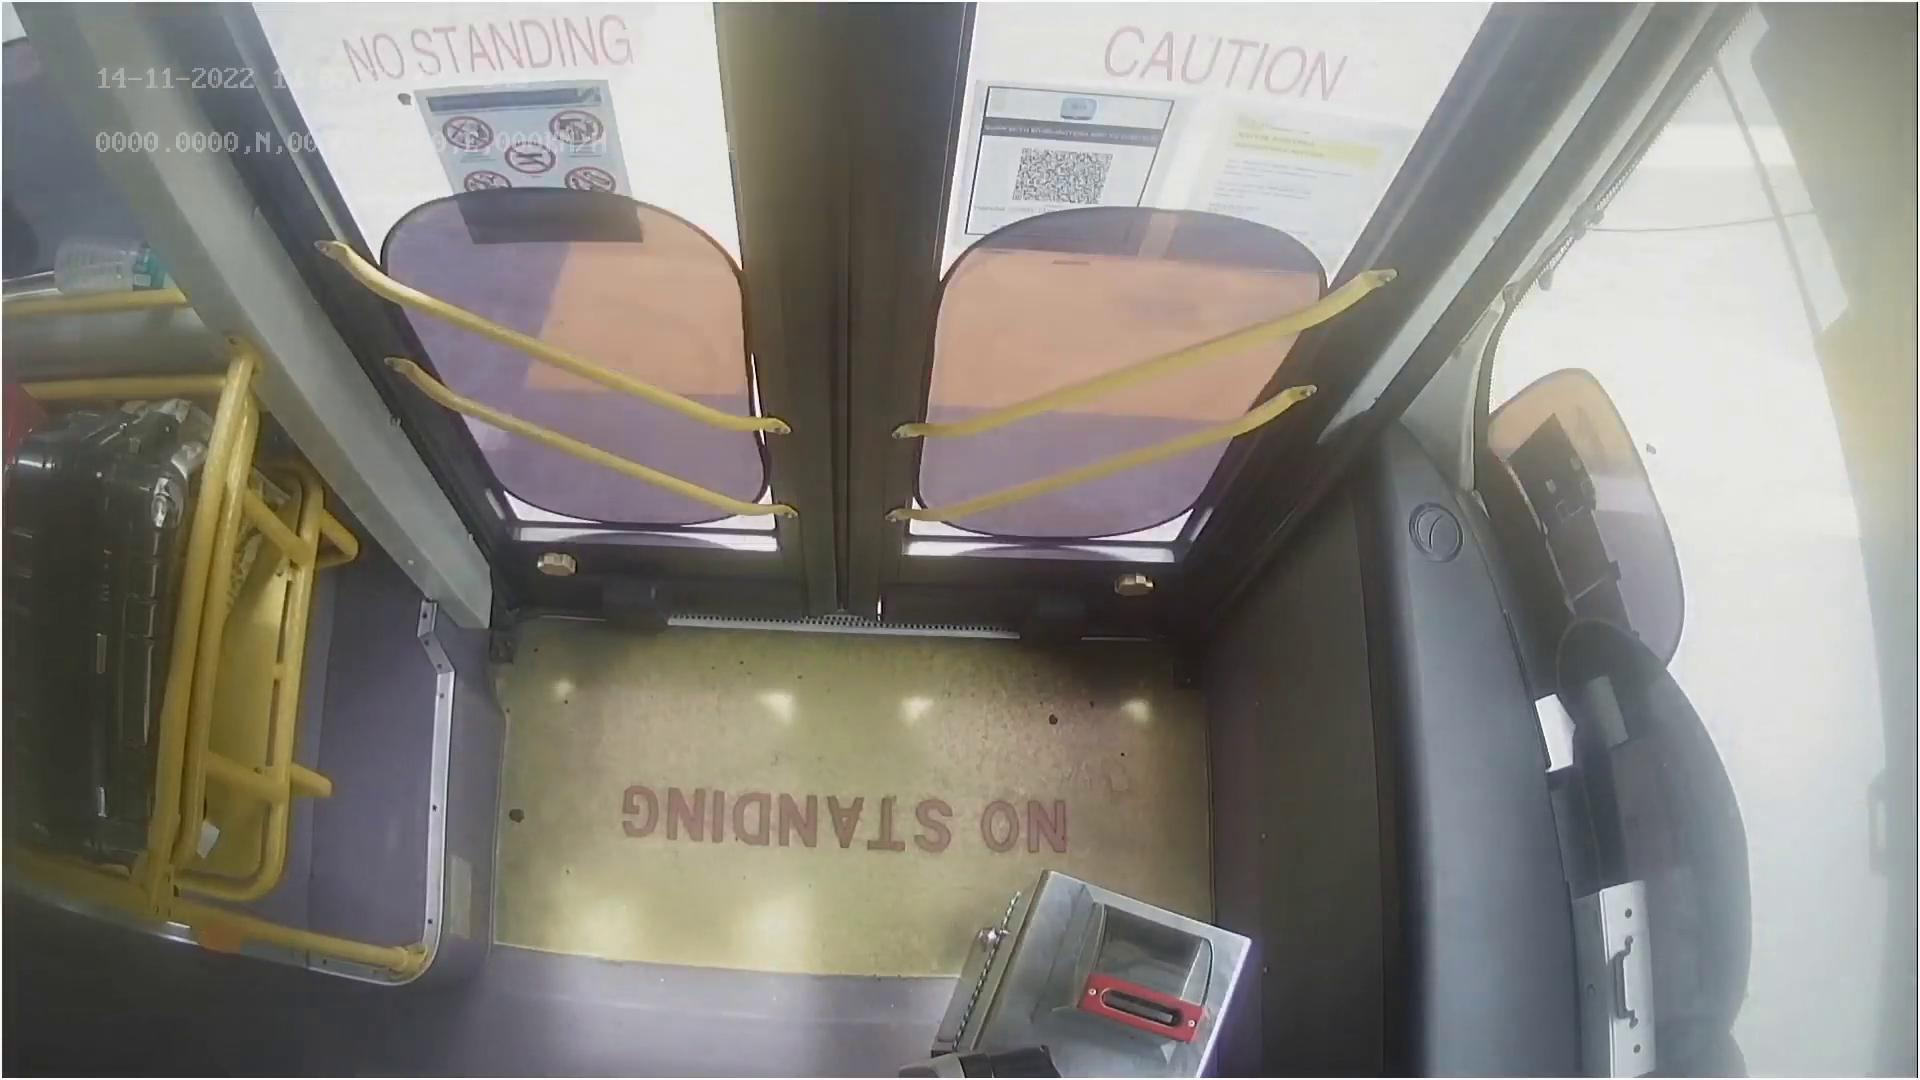close: (284, 0, 1439, 166)
